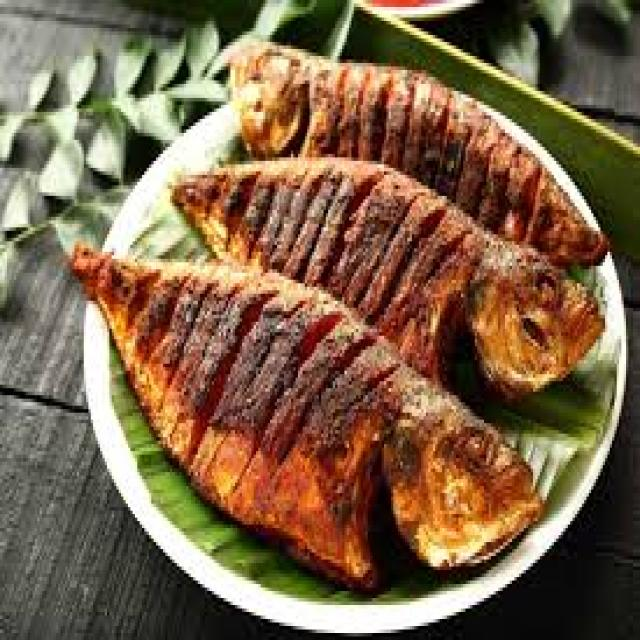Peixe: (68, 234, 544, 591), (168, 154, 605, 399), (226, 35, 610, 266)
